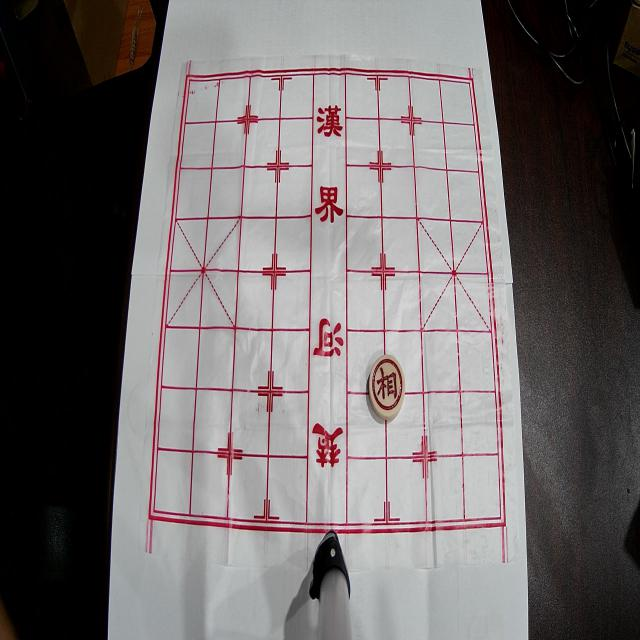red-elephant: (369, 354, 405, 420)
